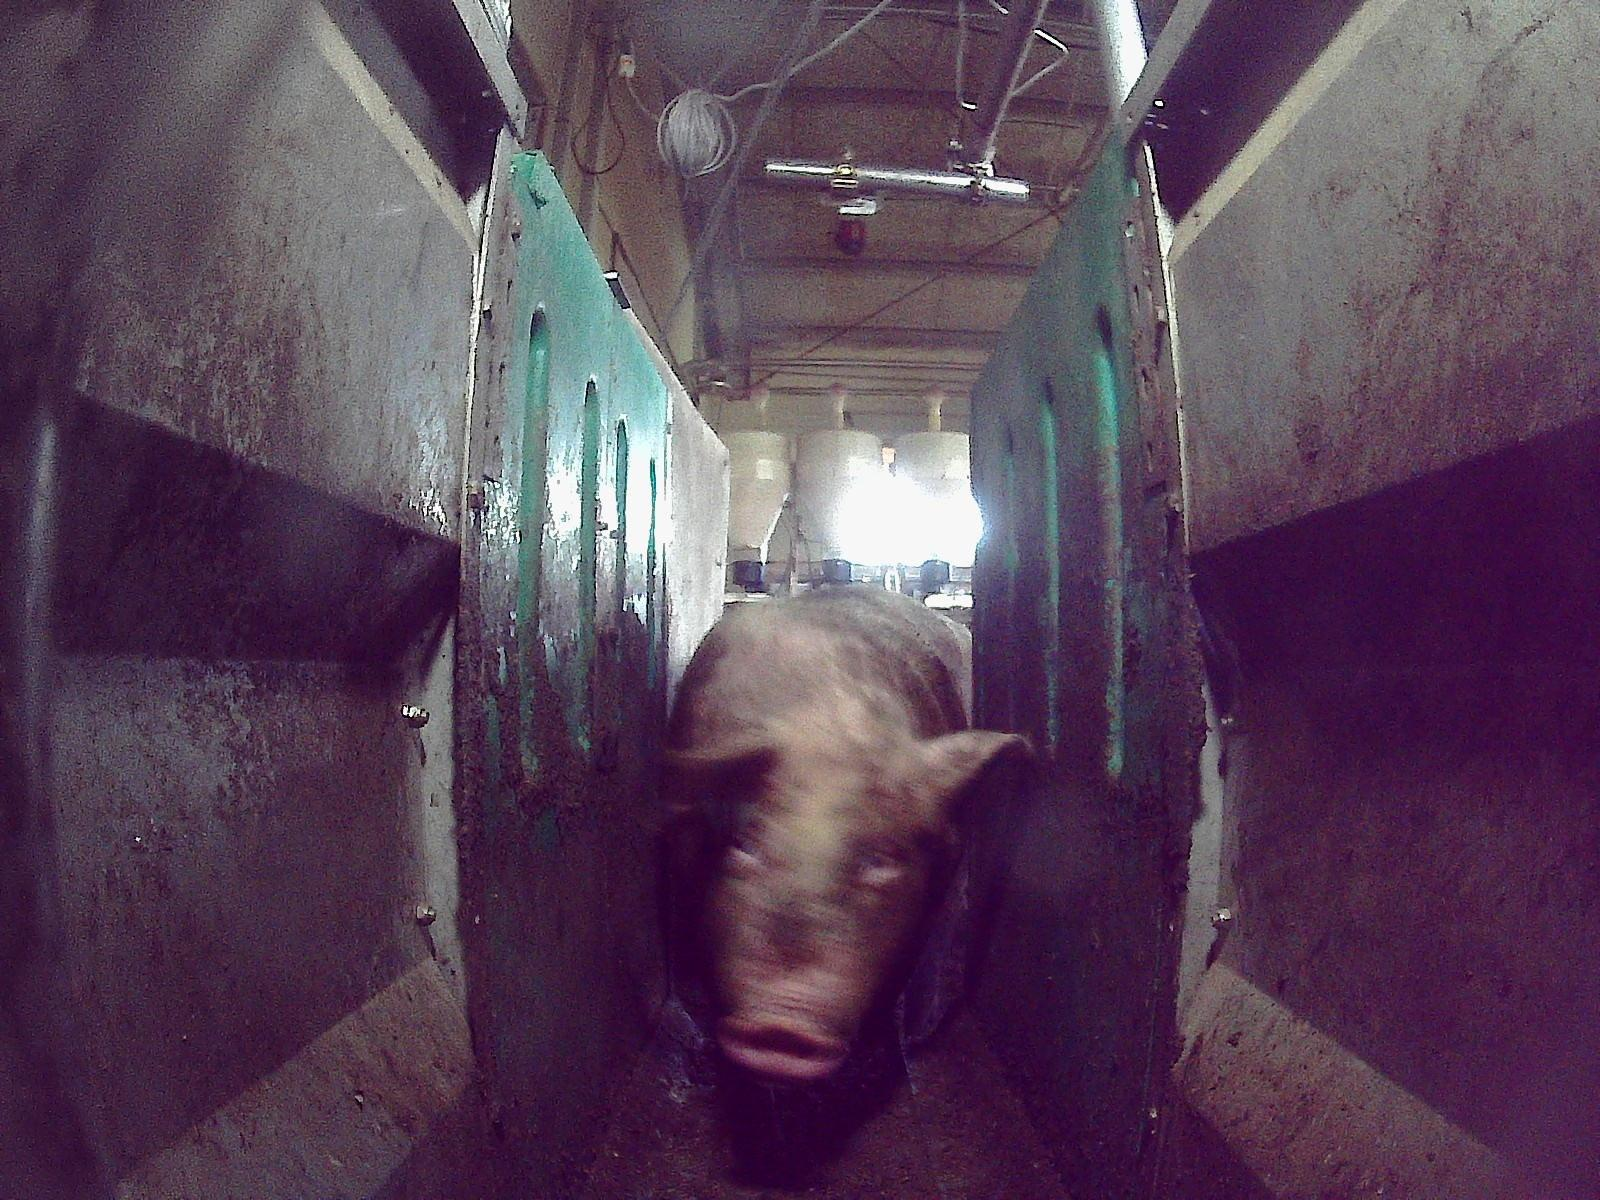Face: (710, 740, 922, 1077)
